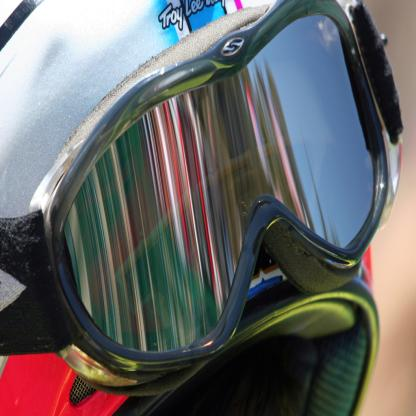Helmet: (0, 0, 403, 416)
